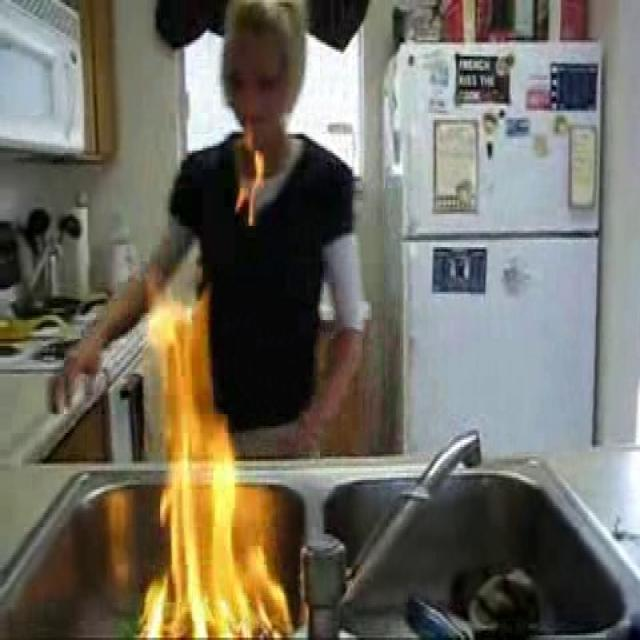Fire: (150, 312, 260, 630)
